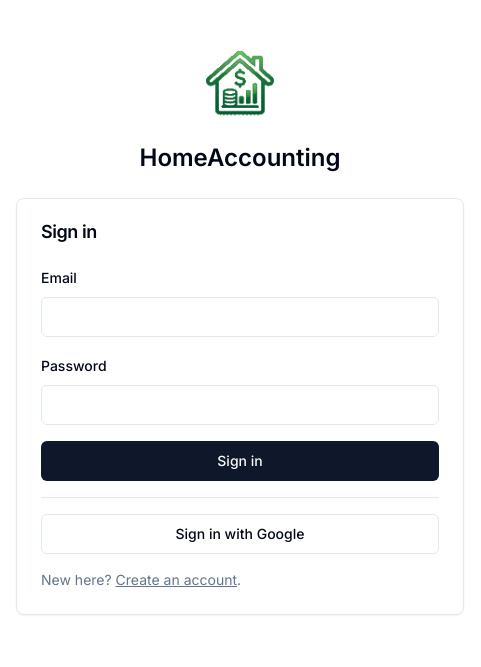
Test: LoginPage › shows backend error message on bad credentials
Type "user@example.com" into the field labelled "Email". click: (240, 316)
box: [41,296,439,336]
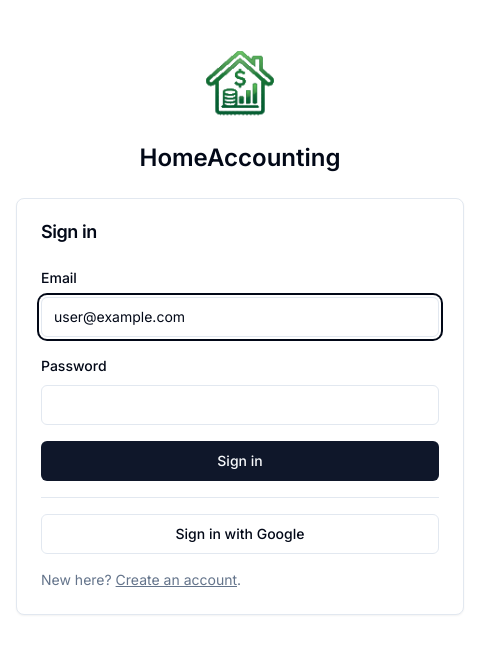
Type "pw1" into the password field labelled "Password". click: (240, 404)
box: [41,384,439,424]
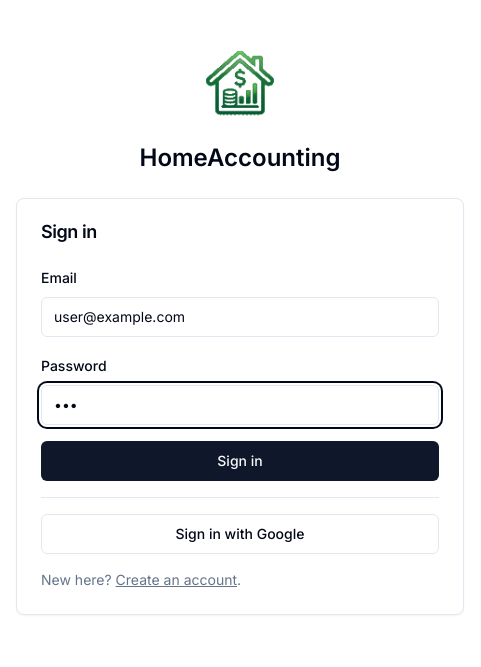
Click the button "Sign in". click: (240, 460)
box: [41,440,439,480]
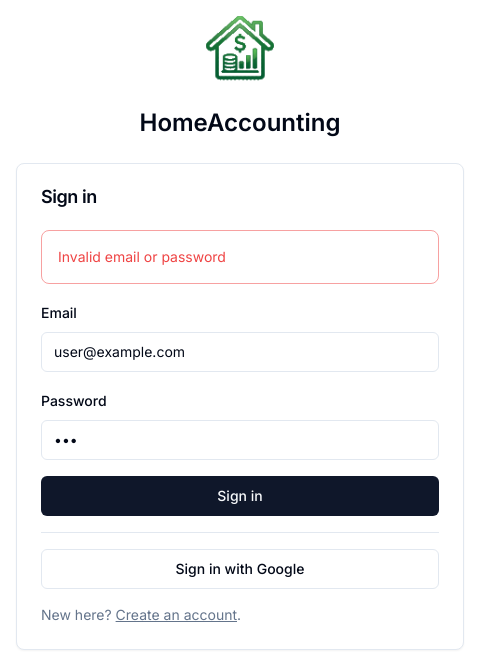
expect the message reads "Invalid email or password": met, box [58,248,226,264]
